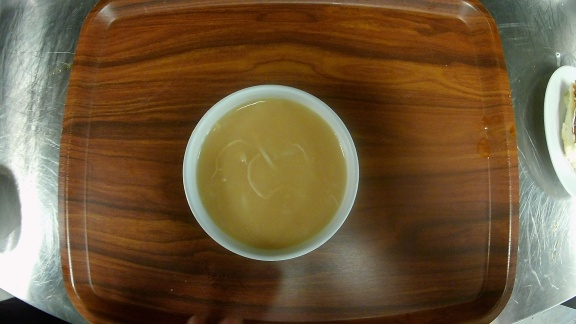tavukcorba: (180, 82, 362, 263)
